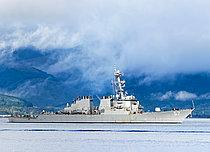MIL_Ship: (7, 64, 195, 124)
